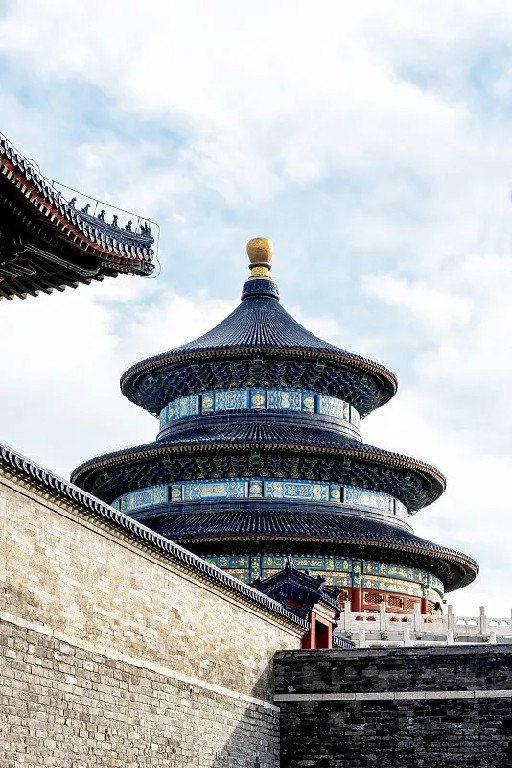Heaven: (70, 237, 481, 642)
